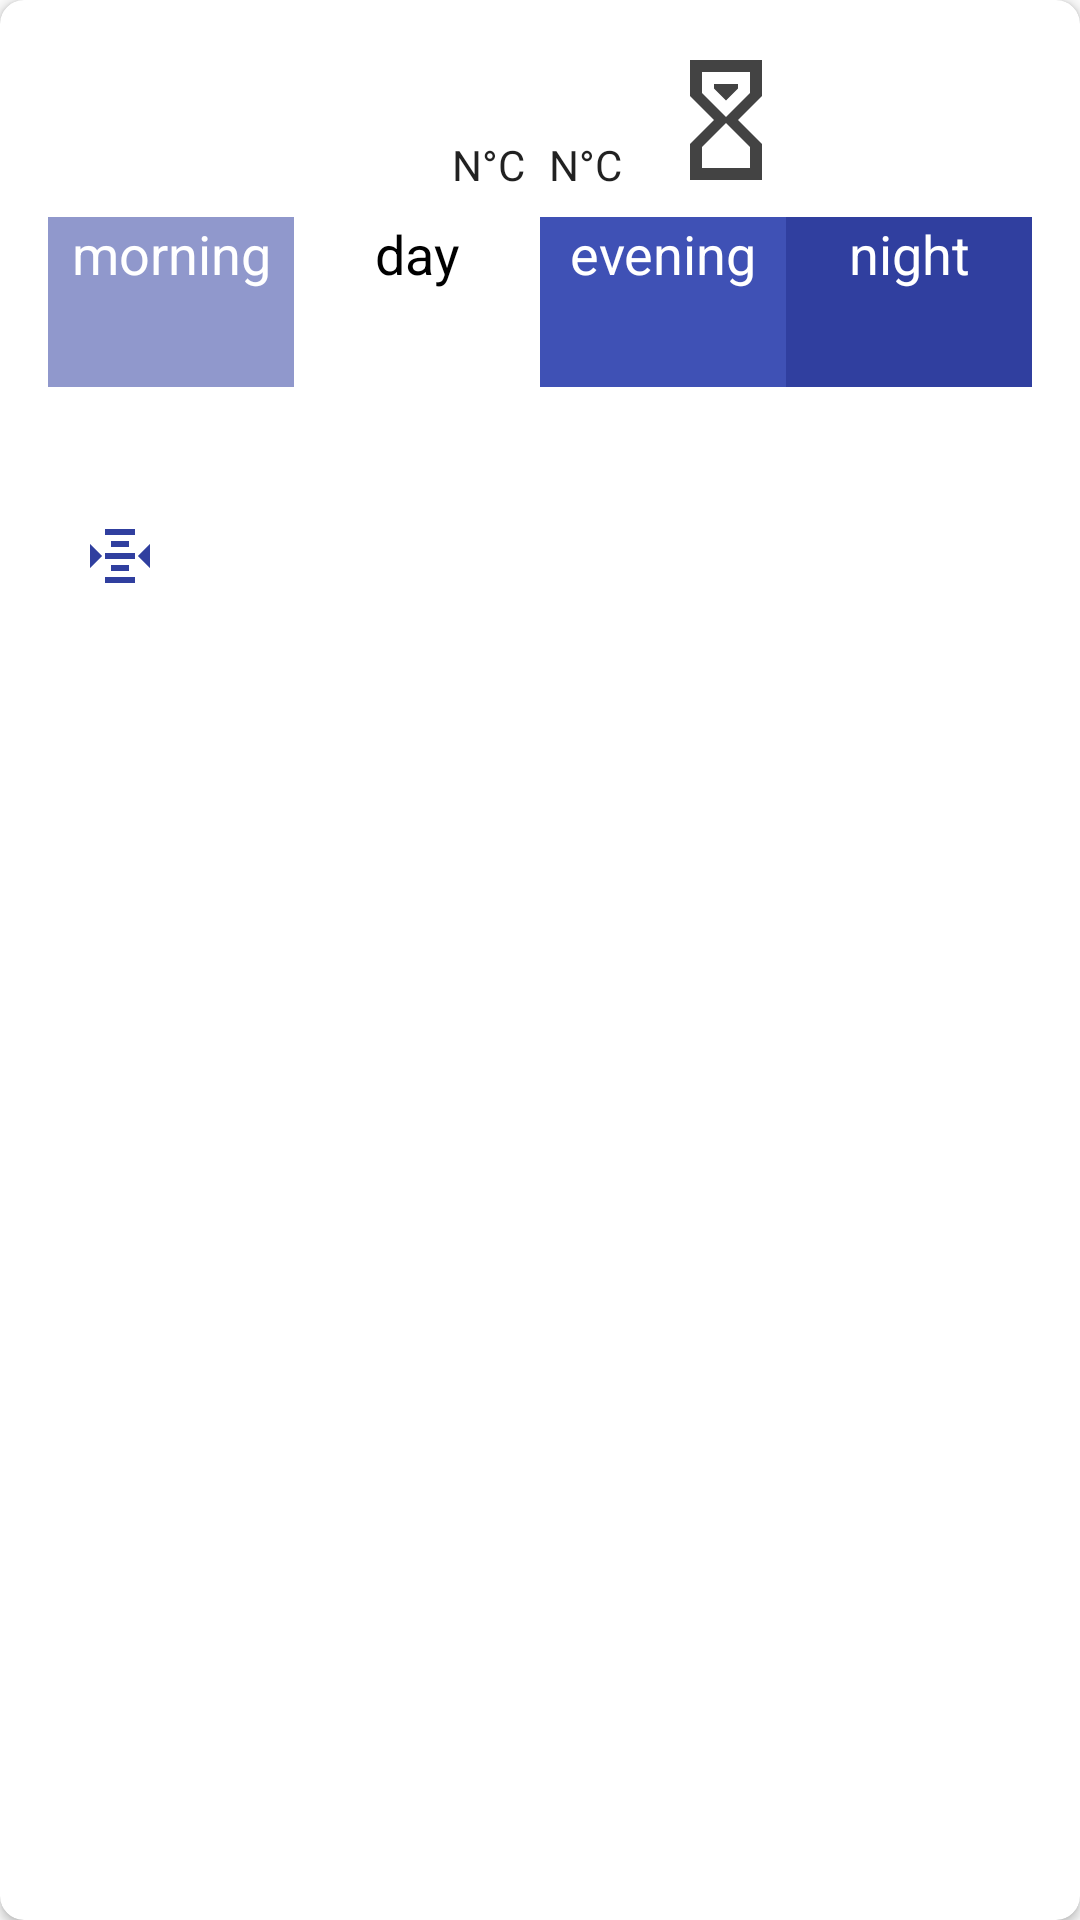

Named icons in this screenshot (1080px×1920px) and their centers, (x,y):
timer sand: (726,120)
